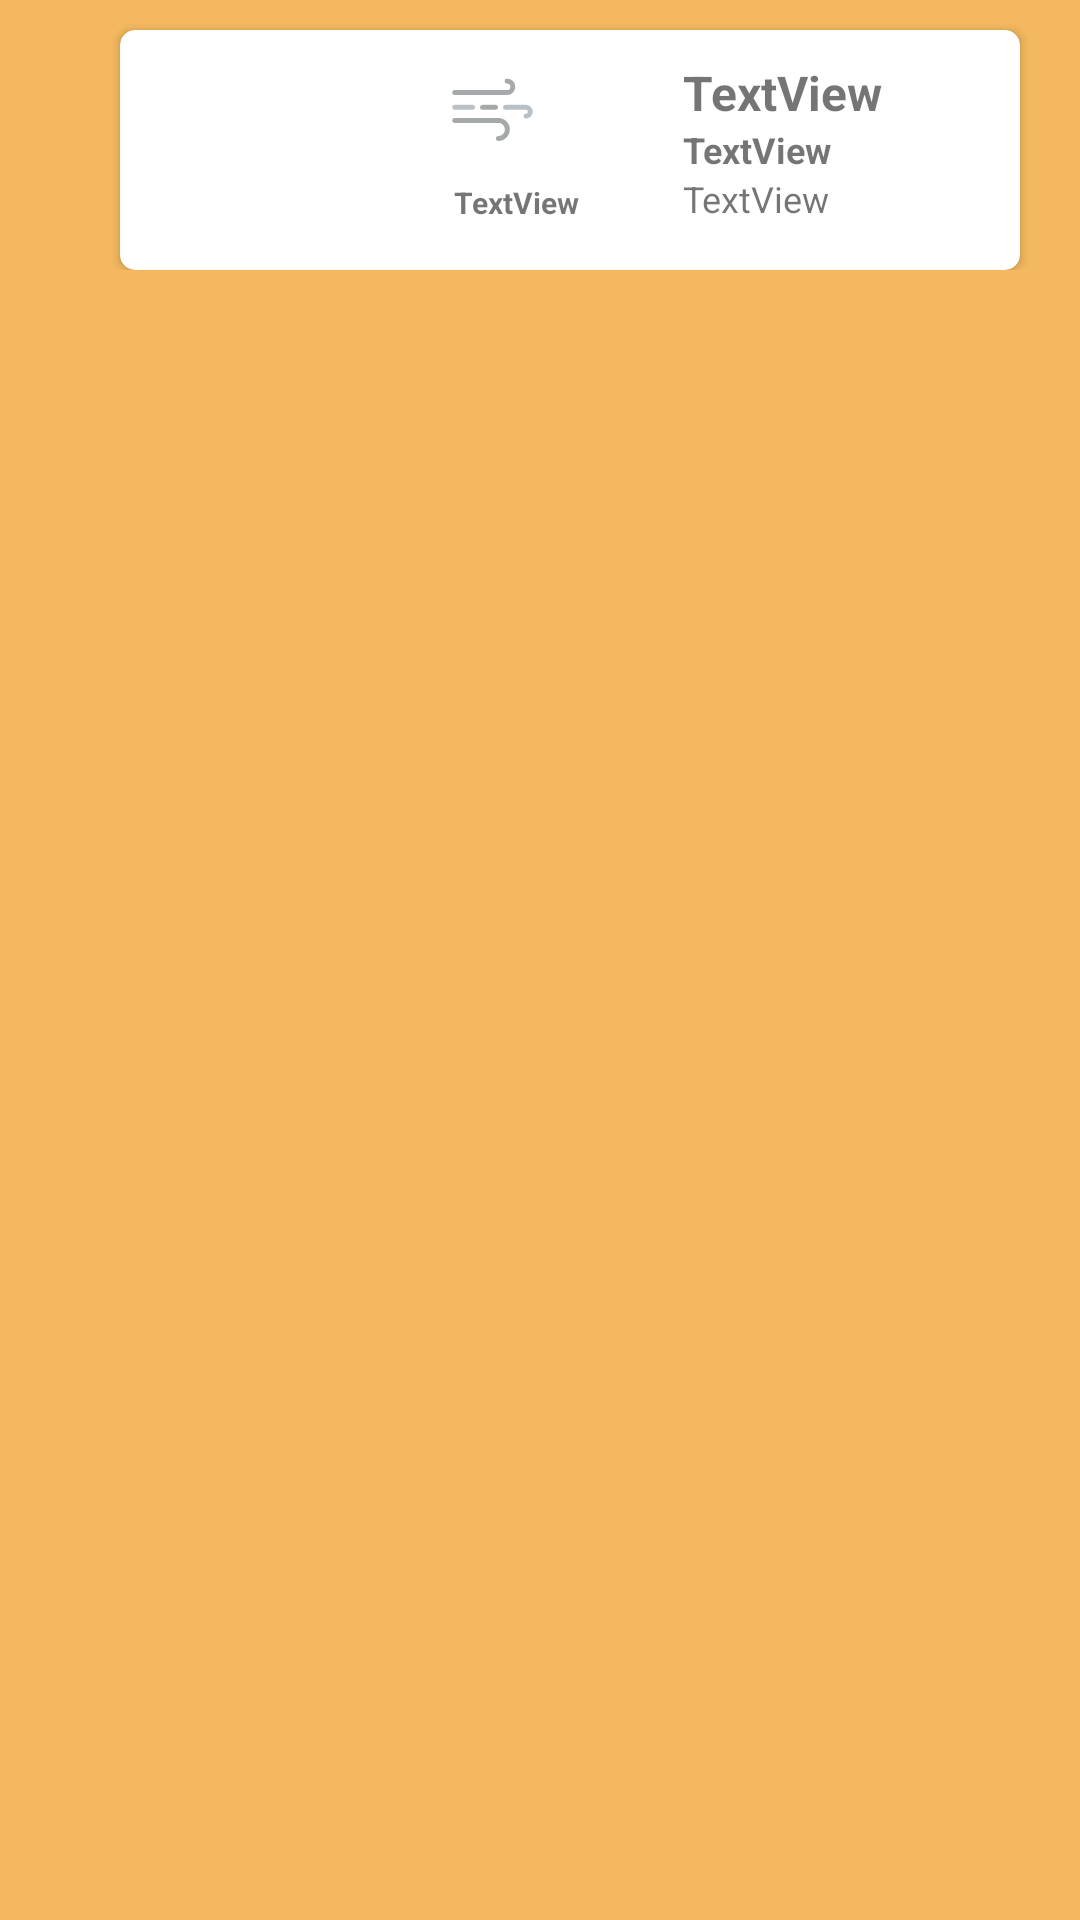

Where icons sit on this 1080×1920 app screen, as (x1, y1, x2, y2):
wind: (452, 78, 533, 141)
